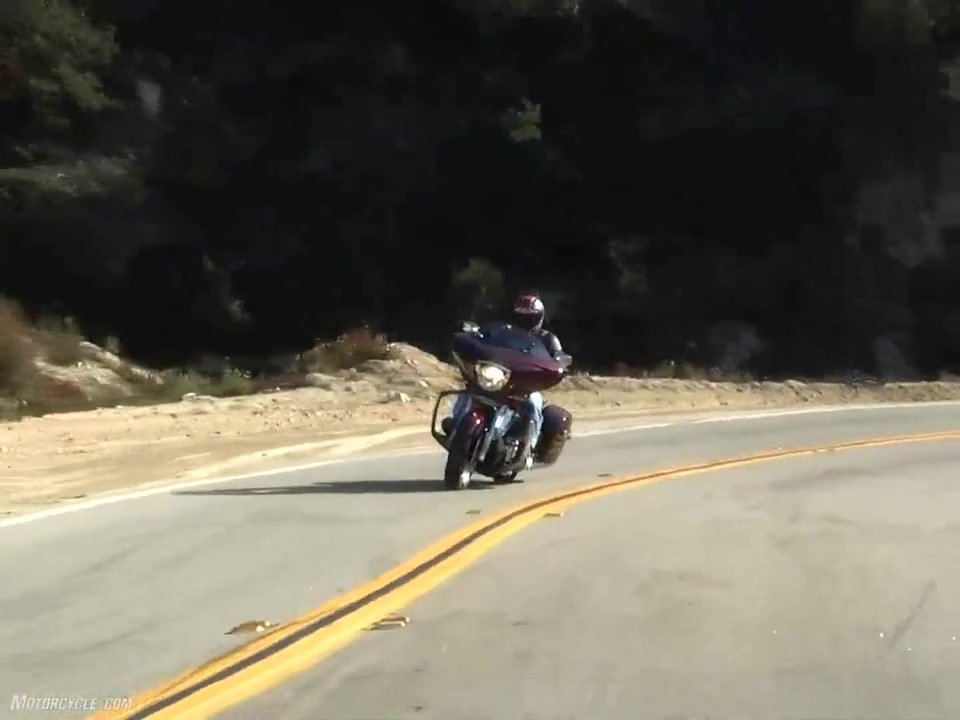motorbike: (429, 323, 576, 492)
